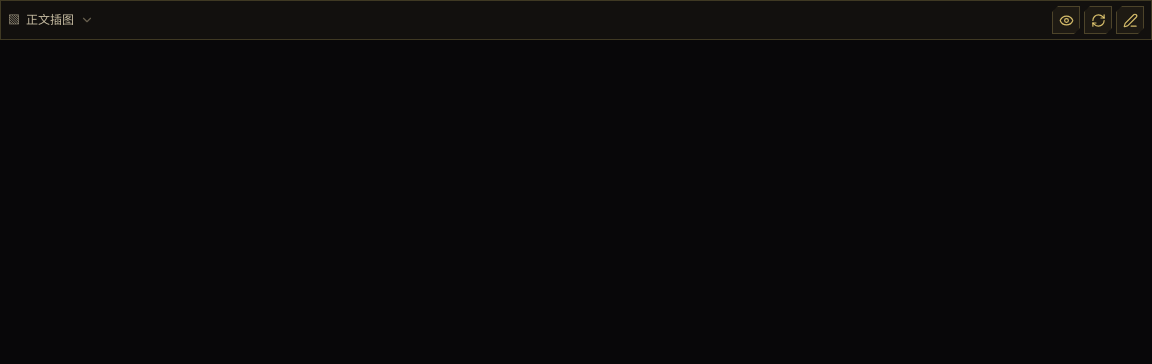
Test: 插图卡片：图标操作 + 悬停说明 › 尺寸写错时给出提示，并在输入为空时提供「清除尺寸」
Click the button named "修改提示词" at (1130, 20), box [1116,6,1144,34]
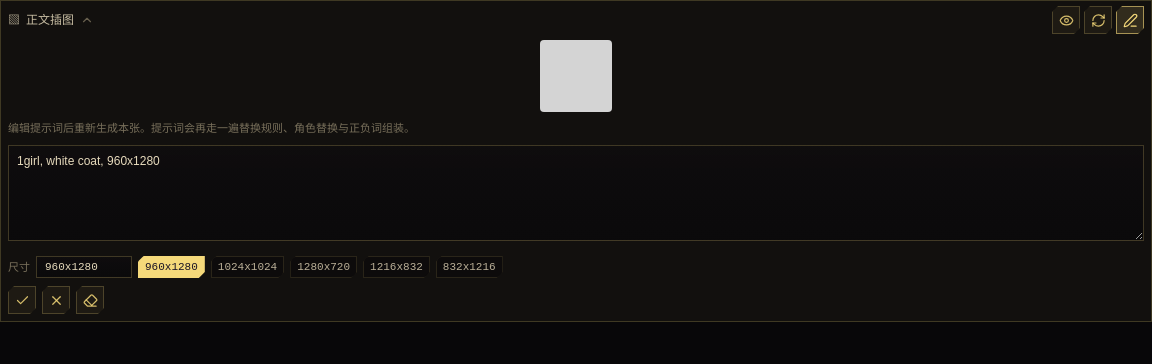
Replace the text in the field showing "960x1280" with "宽1024" at (84, 267), box [36,256,132,278]
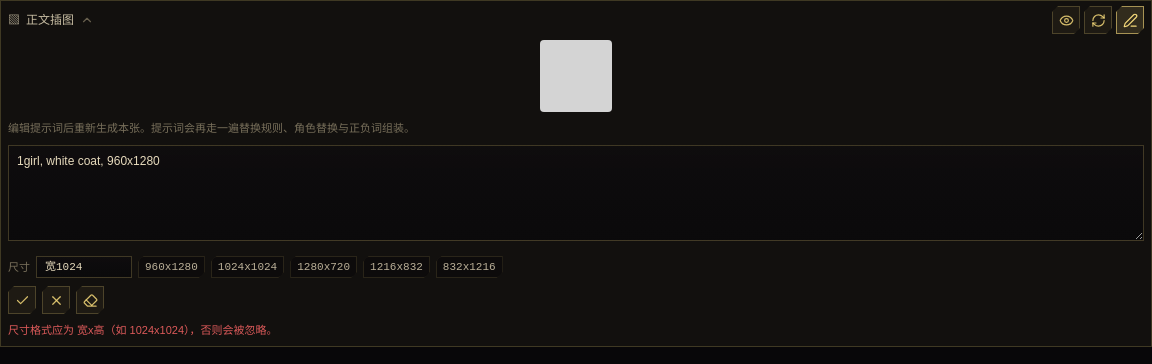
Now the text "尺寸格式应为 宽x高（如 1024x1024），否则会被忽略。" is shown, box [8,324,278,336]
Click the button named "清除尺寸" at (90, 300), box [76,286,104,314]
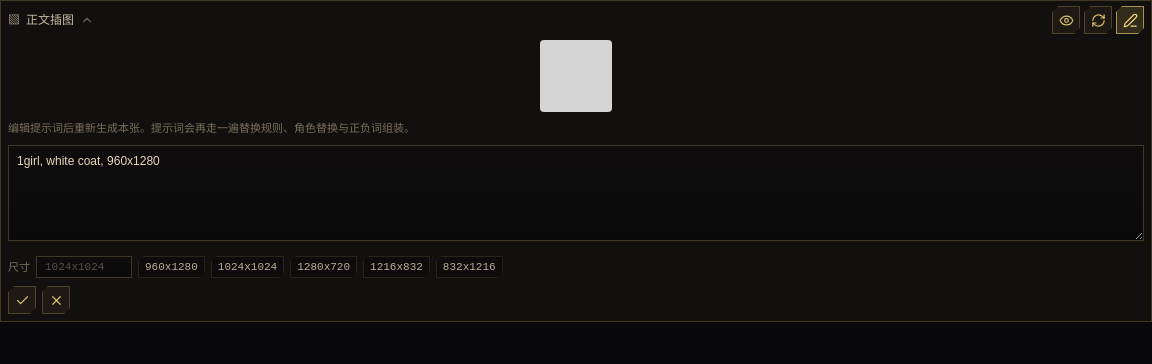
Now the text "尺寸格式应为" is gone
